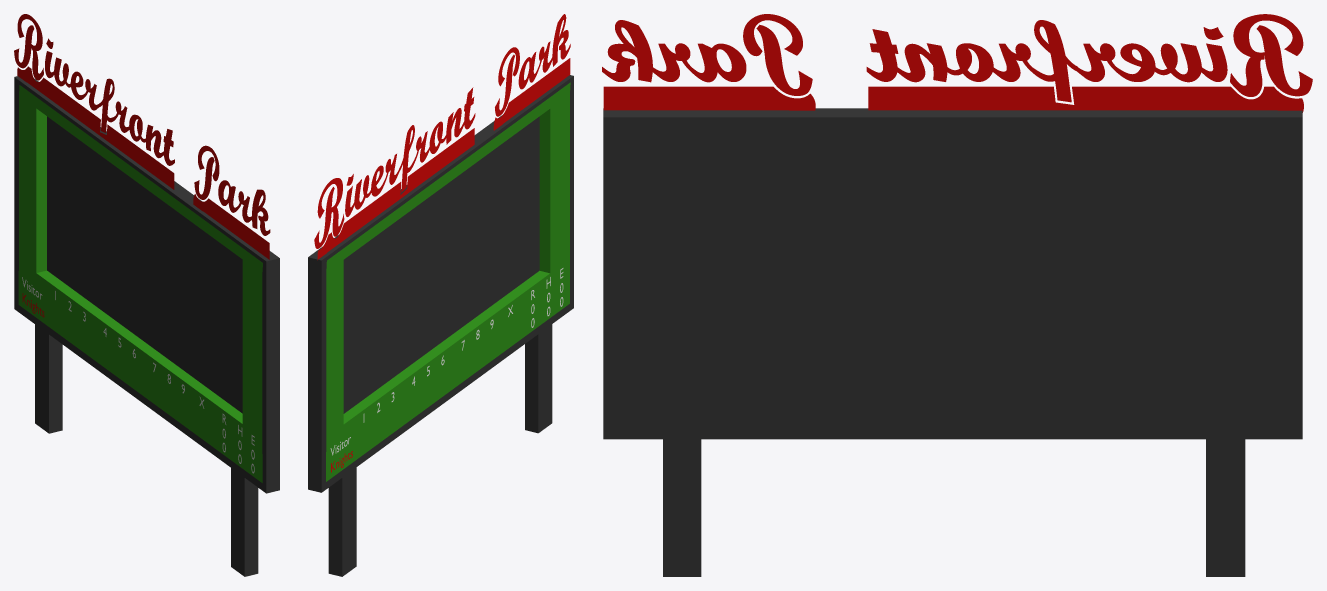
Rendered from Scoreboard.fbx.
The picture shows the model from 3 angles, left to right: view 1: azimuth 30°, elevation 25°; view 2: azimuth 150°, elevation 25°; view 3: azimuth 270°, elevation 25°; orthographic projection. The views are drawn at different scales.
Parts seen in each view (by area): view 1: Cube, Text.001; view 2: Cube, Text.001; view 3: Cube, Text.001.
Boxes of the visible parts, x1,y1,x2,y2 form: Cube: (14,76,279,576); Text.001: (14,14,270,259); Cube: (308,75,573,576); Text.001: (314,14,570,260); Cube: (603,108,1302,576); Text.001: (602,14,1312,112).
Size of the model in its own units: 108 by 2940 by 3405.
